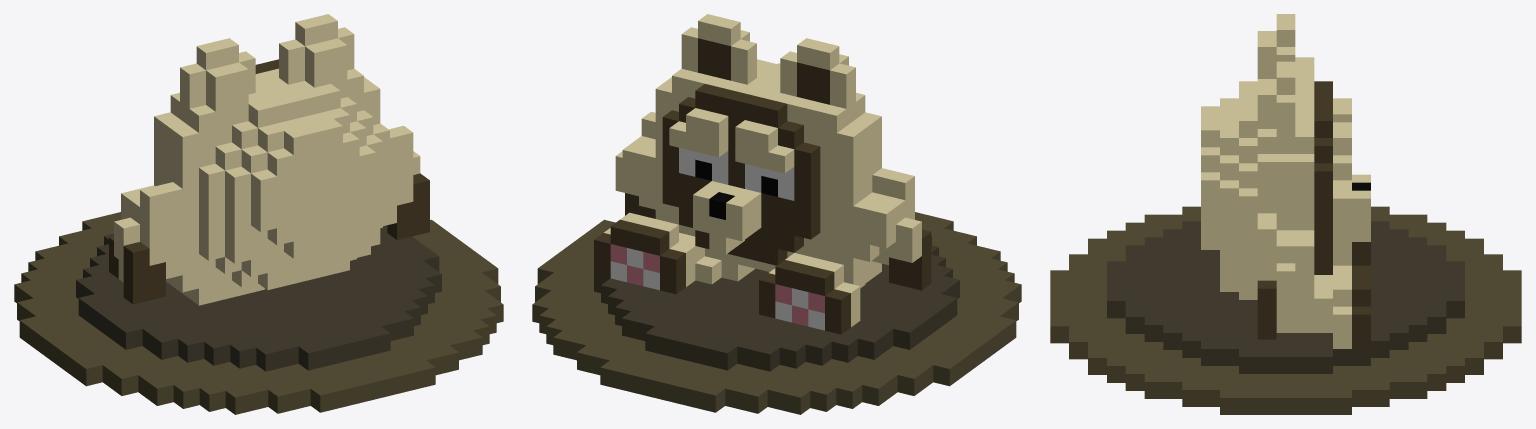
The model's file is figure_1.glb.
The picture shows the model from 3 angles, left to right: view 1: azimuth 30°, elevation 25°; view 2: azimuth 150°, elevation 25°; view 3: azimuth 270°, elevation 25°; orthographic projection.
Parts seen in each view (by area): view 1: codebear_1; view 2: codebear_1; view 3: codebear_1.
Boxes of the visible parts, x1,y1,x2,y2 form: codebear_1: [14, 14, 503, 414]; codebear_1: [532, 14, 1021, 414]; codebear_1: [1050, 14, 1521, 414].
Bounding box in the file's own units: 2.5 × 1.6 × 2.5.
1 material, 1 textured.
